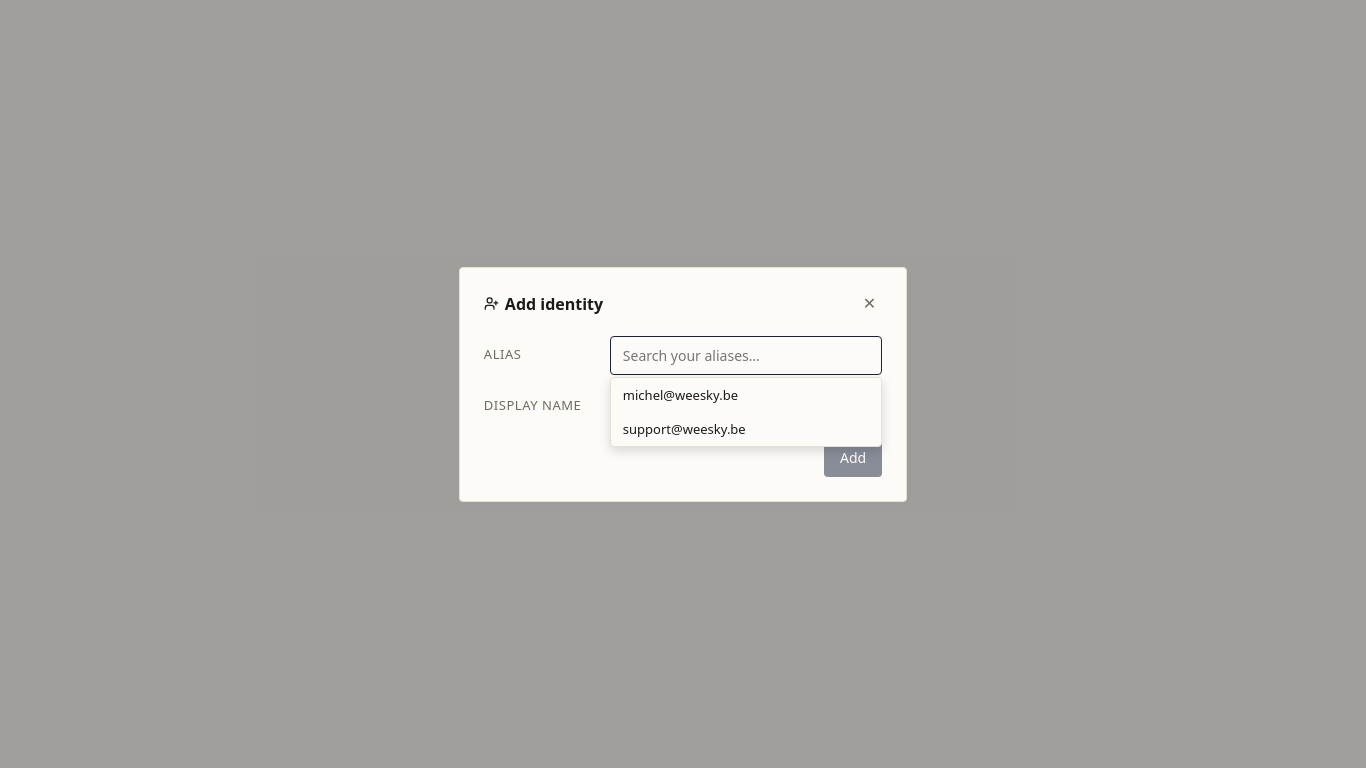
Test: IdentityDialog › filters the aliases as the user types, refining with each character
This screenshot has width=1366, height=768.
Type "e" into the field labelled "Alias". click: (746, 355)
box: [610, 336, 882, 374]
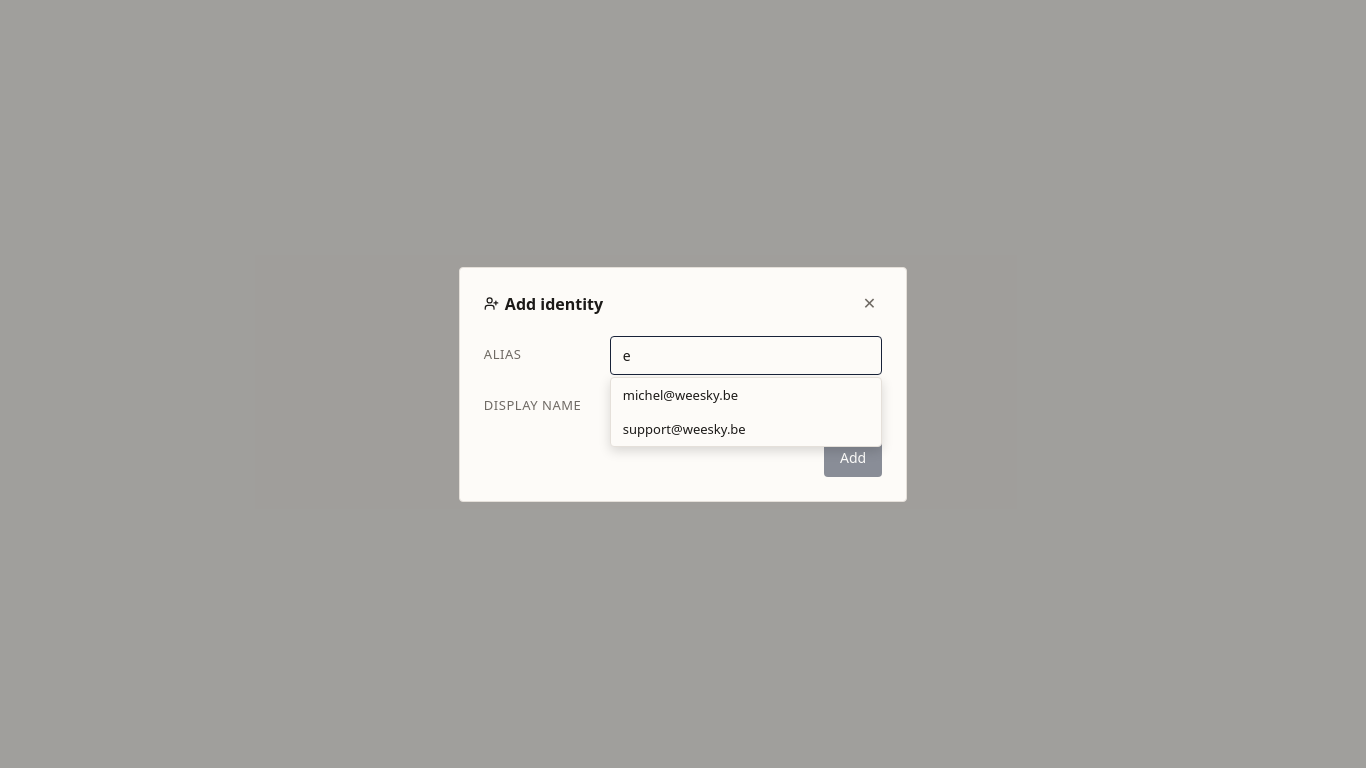
Check: the button "michel@weesky.be" is shown, box [611, 378, 881, 412]
Check: the button "support@weesky.be" is shown, box [611, 412, 881, 446]
Replace the text in the field labelled "Alias" with "mich". click: (746, 355)
box: [610, 336, 882, 374]
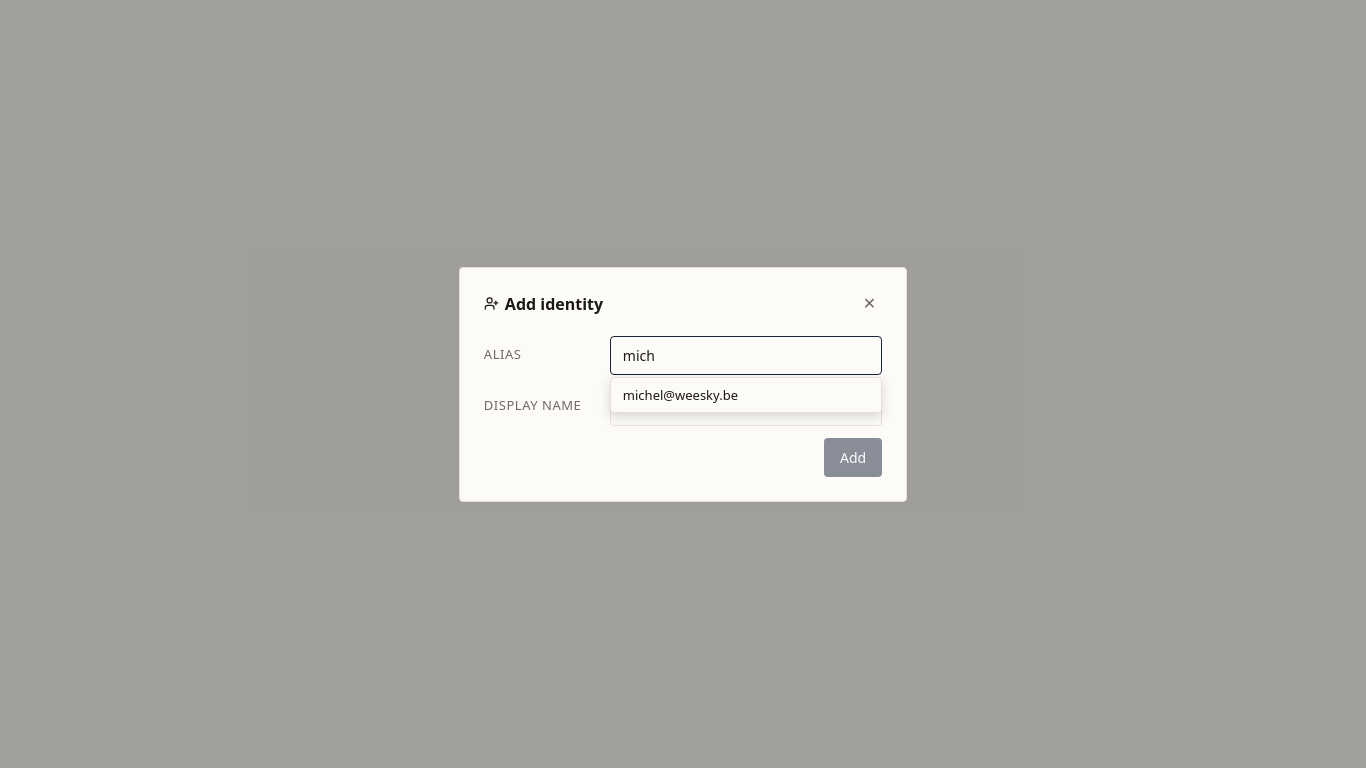
Check: the button "michel@weesky.be" is shown, box [611, 378, 881, 412]
Check: the button "support@weesky.be" is gone
